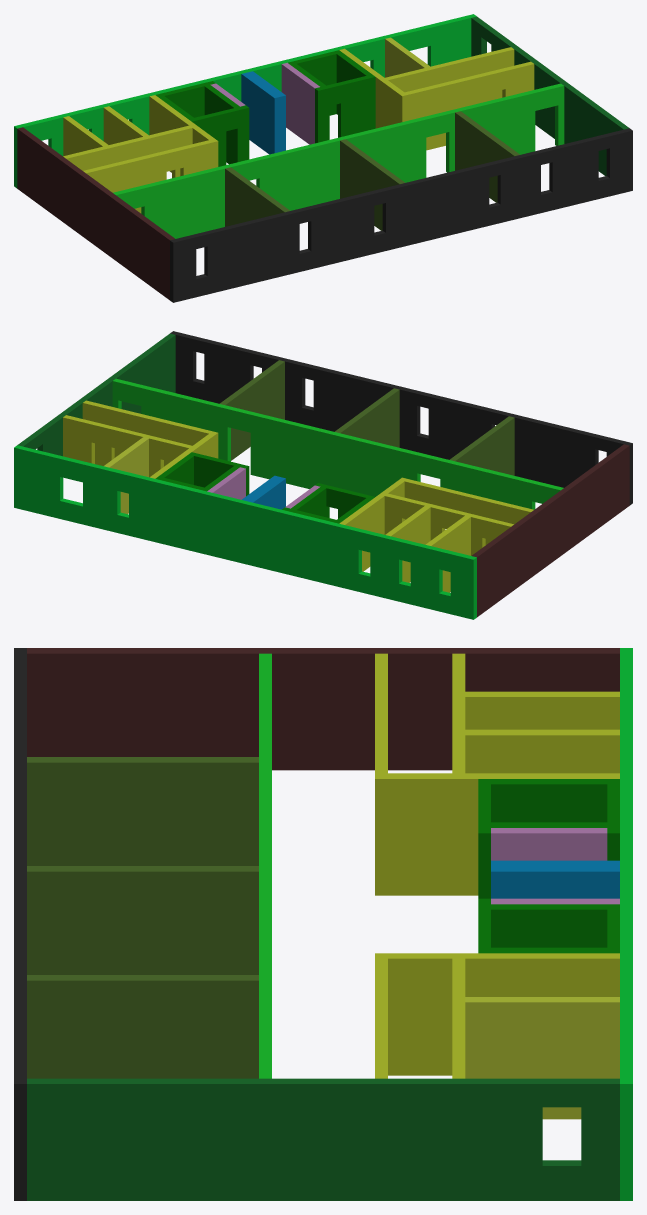
File: convitto_primopiano.gltf
3 renders of one model, top to bottom at view 1: azimuth 30°, elevation 25°; view 2: azimuth 150°, elevation 25°; view 3: azimuth 270°, elevation 25°, orthographic. The views are drawn at different scales.
Visible parts, largest first — view 1: Layer.1, Layer.7, Layer.2, Layer.17, Layer.6, Layer.9, Layer.8, Layer.23, Layer.11, Layer.10, Layer.4, Layer.5 (+14 smaller); view 2: Layer.17, Layer.1, Layer.7, Layer.2, Layer.6, Layer.11, Layer.9, Layer.10, Layer.5, Layer.8, Layer.3, Layer.4 (+11 smaller); view 3: Layer.6, Layer.2, Layer.3, Layer.4, Layer.5, Layer.15, Layer.16, Layer.14, Layer.1, Layer.17, Layer.13, Layer.12 (+14 smaller).
Boxes of the visible parts, box(x1,y1,x2,y2) form: Layer.1: box(170, 128, 632, 302); Layer.7: box(113, 83, 564, 238); Layer.2: box(17, 127, 174, 300); Layer.17: box(14, 14, 476, 188); Layer.6: box(471, 16, 629, 175); Layer.9: box(399, 61, 534, 150); Layer.8: box(83, 139, 218, 213); Layer.23: box(315, 74, 375, 143); Layer.11: box(385, 47, 514, 100); Layer.10: box(63, 125, 192, 178); Layer.4: box(340, 139, 404, 230); Layer.5: box(455, 111, 519, 202); Layer.17: box(14, 445, 476, 619); Layer.1: box(170, 331, 632, 505); Layer.7: box(112, 378, 563, 509); Layer.2: box(472, 444, 629, 617); Layer.6: box(17, 333, 175, 456); Layer.11: box(63, 415, 191, 477); Layer.9: box(82, 400, 218, 466); Layer.10: box(384, 493, 513, 555); Layer.5: box(219, 360, 284, 460); Layer.8: box(399, 477, 533, 544); Layer.3: box(449, 416, 514, 475); Layer.4: box(334, 388, 399, 447); Layer.6: box(27, 1078, 619, 1200); Layer.2: box(27, 648, 619, 770); Layer.3: box(27, 757, 258, 865); Layer.4: box(27, 866, 258, 974); Layer.5: box(27, 975, 258, 1078); Layer.15: box(388, 953, 619, 1075); Layer.16: box(465, 997, 619, 1119); Layer.14: box(388, 773, 619, 895); Layer.1: box(14, 648, 26, 1200); Layer.17: box(620, 648, 632, 1200); Layer.13: box(465, 729, 619, 773); Layer.12: box(465, 691, 619, 729).
Bounding box in the file's own units: 80 × 10 × 48.
1 material, 1 textured.
